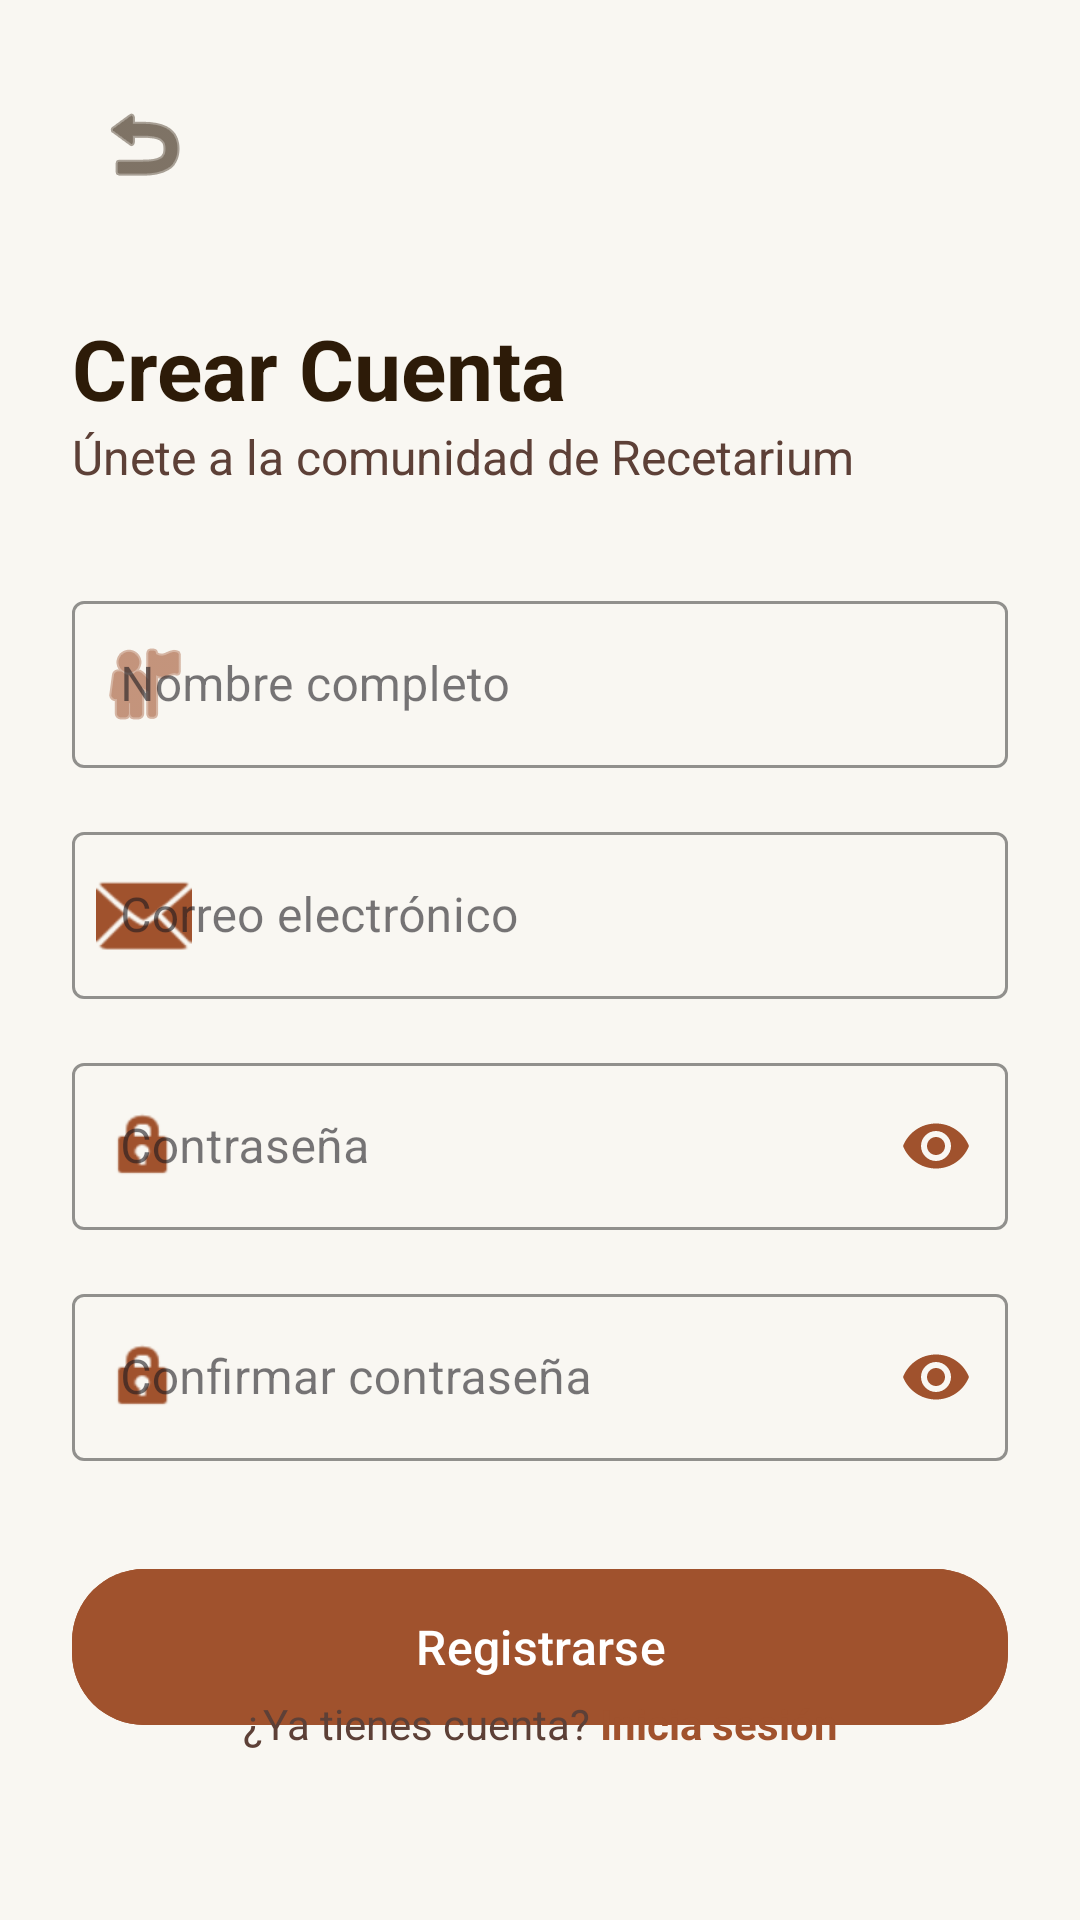

Icon bounding boxes for this 1080×1920 phone screenshot, format BBox(x1, y1, x2, y2):
Volver: BBox(111, 113, 180, 176)
